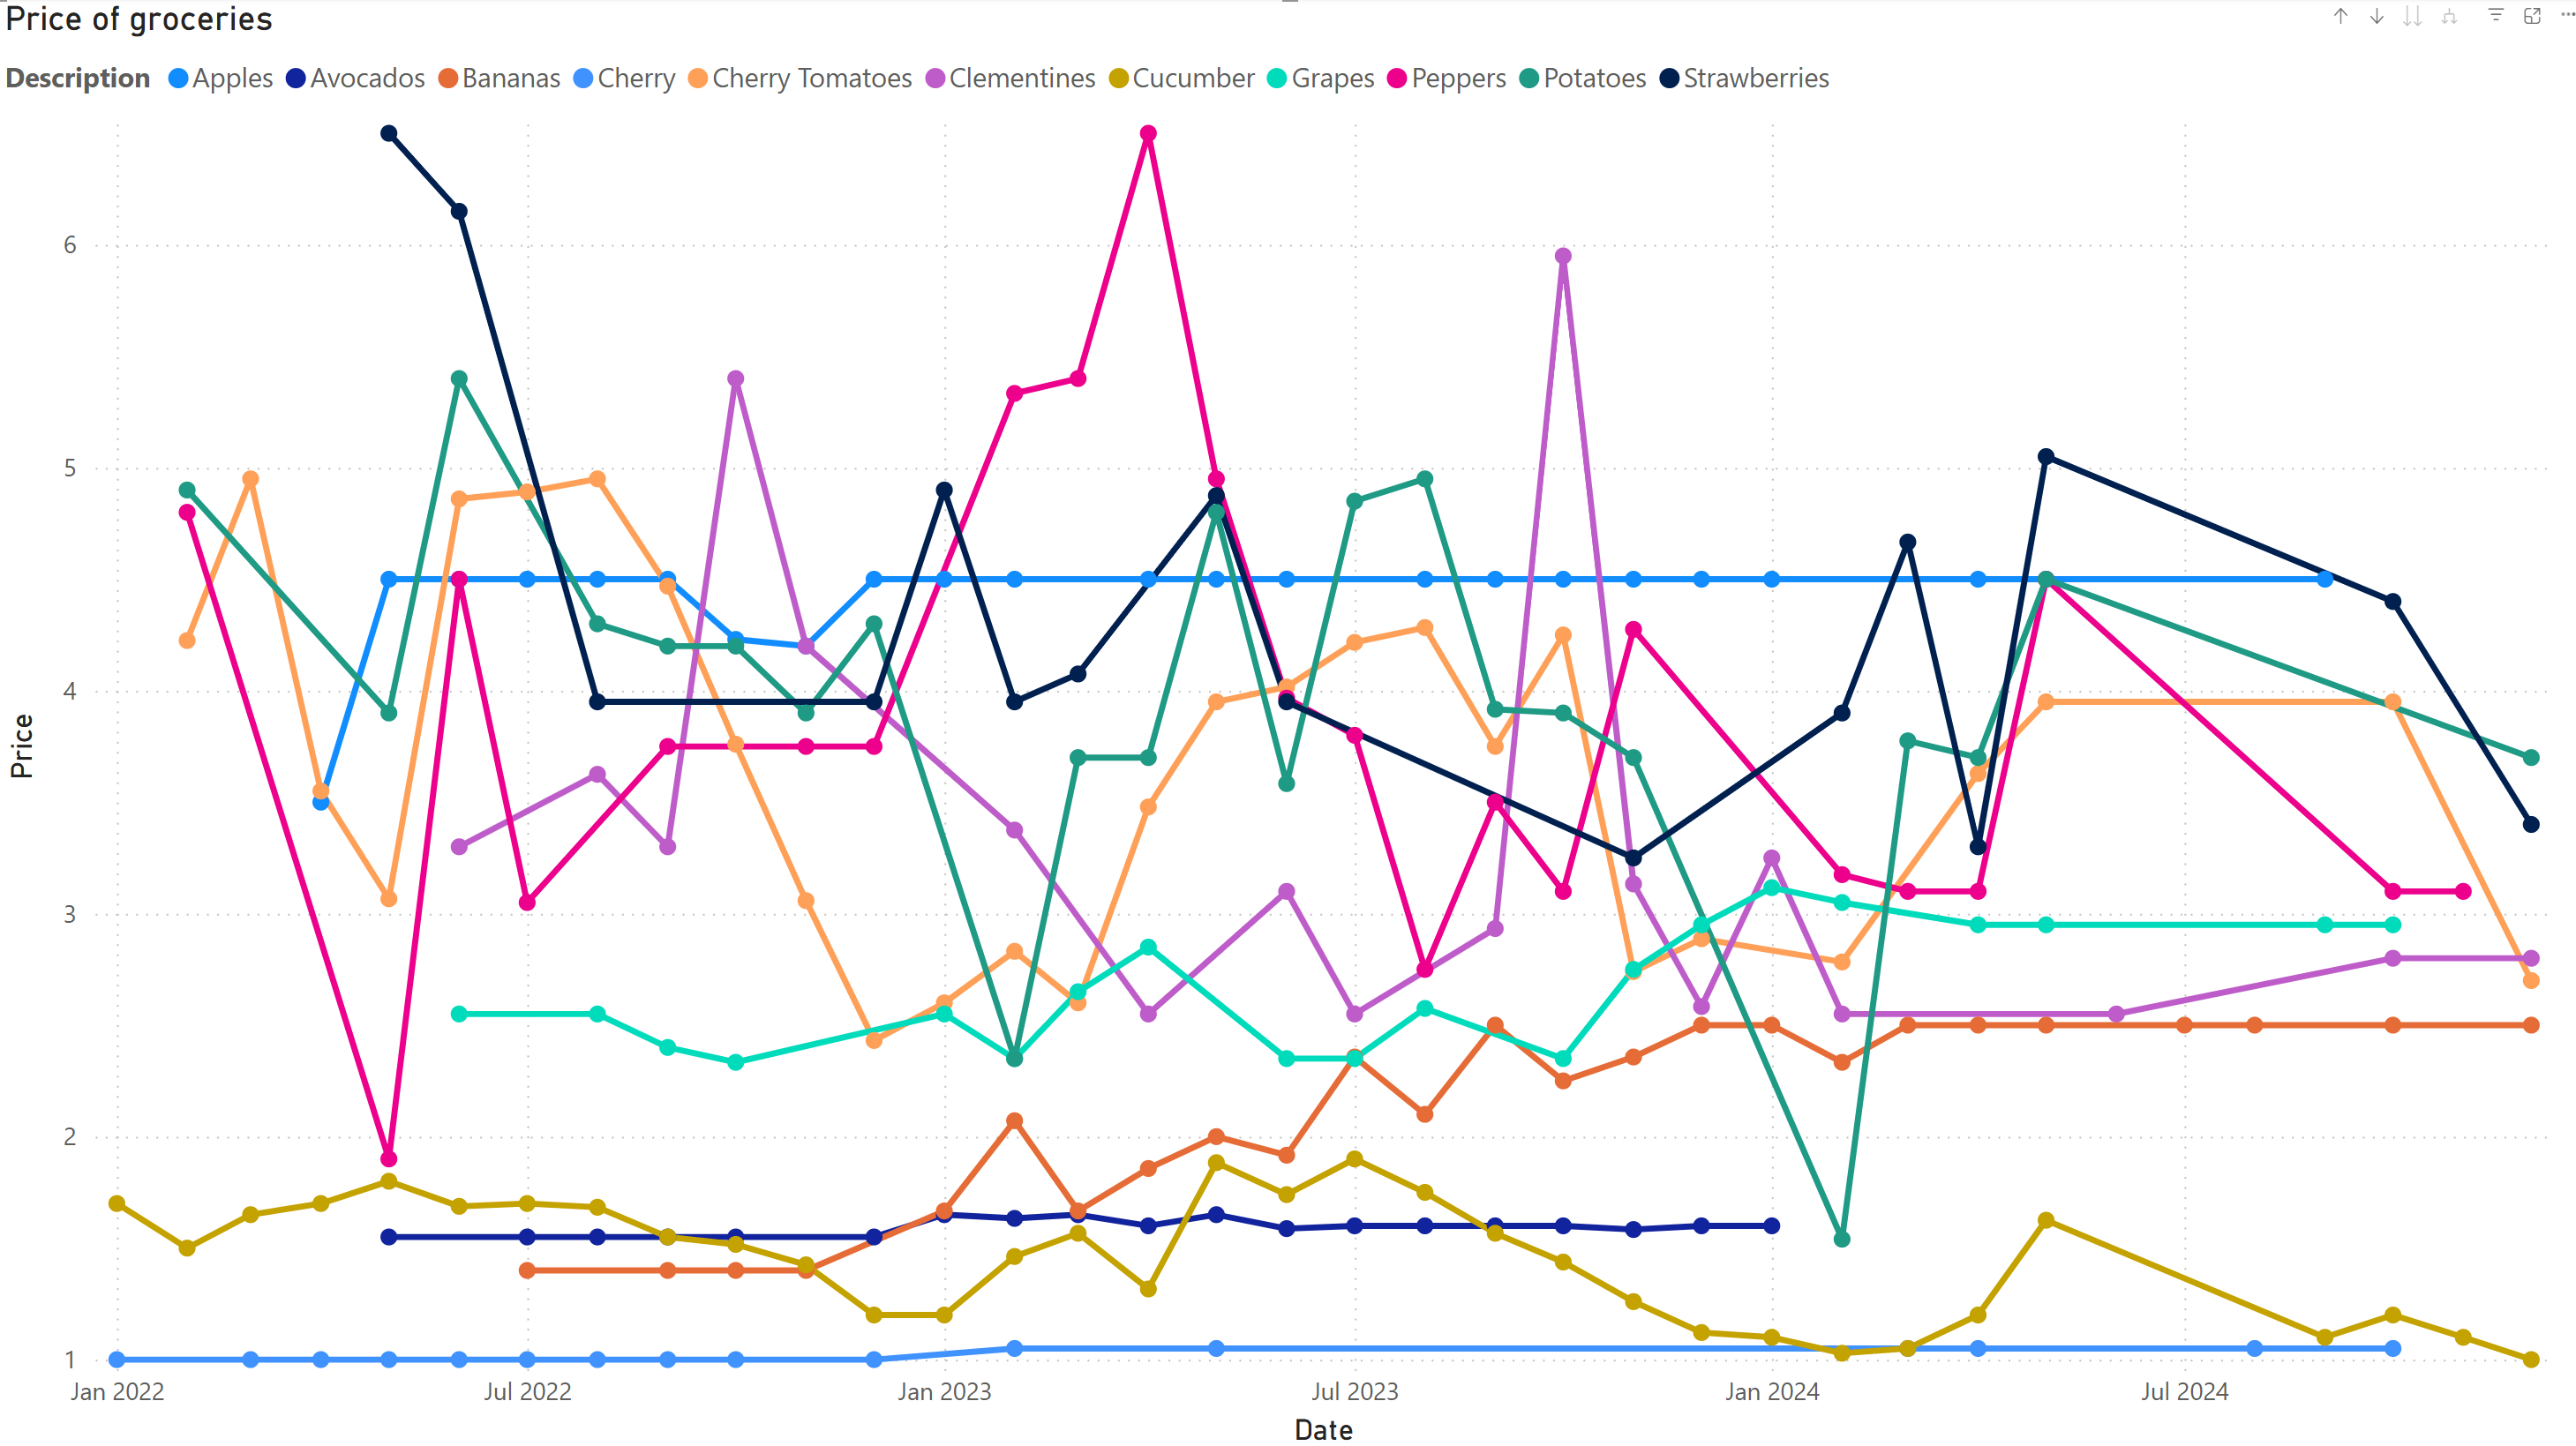

What the dashboard file says about the page in this screenshot:
{"tool":"powerbi","page":{"name":"Third Plot","canvas":[1280,720],"ordinal":2},"visuals":[{"type":"lineChart","title":"Price of groceries","fields":{"Series":["Groceries.Description"],"Y":["Avg(Groceries.Price)"],"Category":["Date.Date.Variation.Date Hierarchy.Year","Date.Date.Variation.Date Hierarchy.Month"]},"box":[0,0,1279.8,720],"z":0}]}

Visuals, with their boxes on the page's 1280x720 design canvas (x1, y1, x2, y2). These are canvas units, not pixel positions in the 2576x1446 screenshot, which may show the page scaled, cropped or inside an application window:
"Price of groceries" lineChart: l=0, t=0, r=1280, b=720
